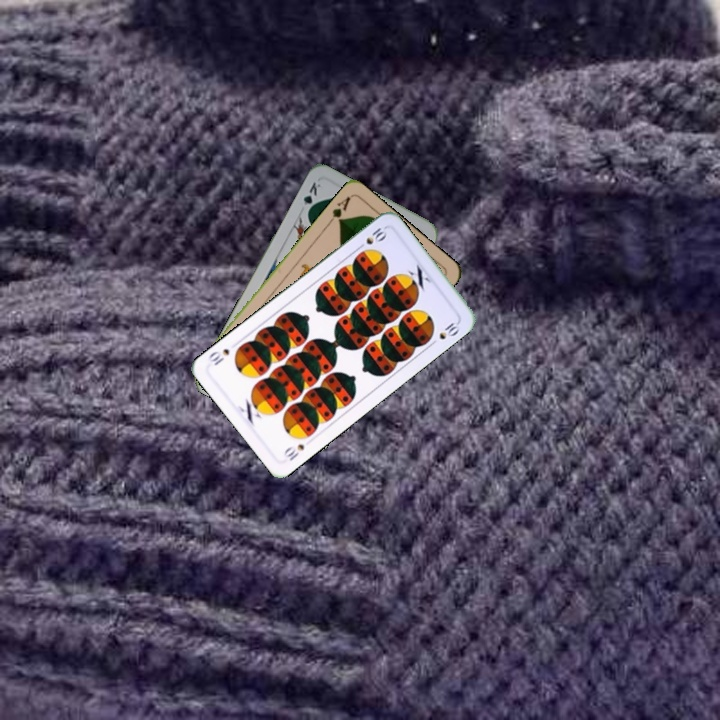GA: (324, 192, 353, 228)
GK: (299, 178, 325, 217)
S10: (353, 223, 389, 252), (279, 440, 307, 464)
